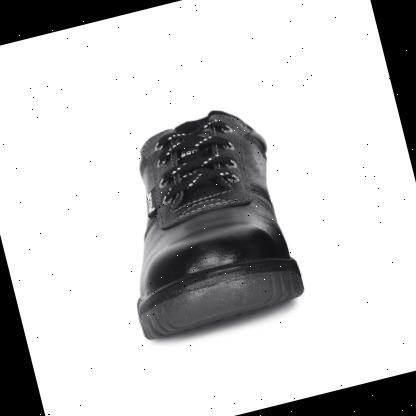bota: (90, 94, 311, 350)
